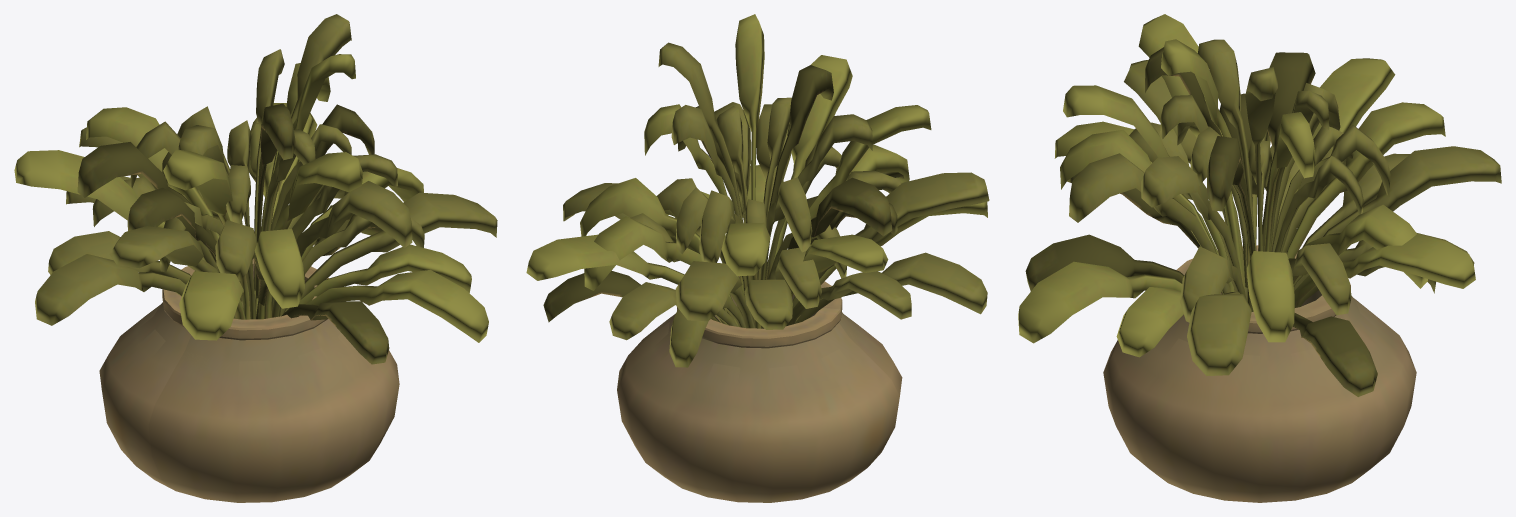
File: MansionPlantPot.fbx
3 views of the same model, side by side, from view 1: azimuth 30°, elevation 25°; view 2: azimuth 150°, elevation 25°; view 3: azimuth 270°, elevation 25° (orthographic). The views are drawn at different scales.
Parts seen in each view (by area): view 1: plant, plantPot-Merged; view 2: plant, plantPot-Merged; view 3: plant, plantPot-Merged.
Part boxes in pixels (bbox=[...]): plant: bbox=[14, 14, 497, 364]; plantPot-Merged: bbox=[99, 259, 399, 502]; plant: bbox=[526, 14, 989, 367]; plantPot-Merged: bbox=[617, 276, 902, 502]; plant: bbox=[1018, 14, 1501, 396]; plantPot-Merged: bbox=[1103, 245, 1416, 502].
Bounding box in the file's own units: 416 × 381 × 375.
